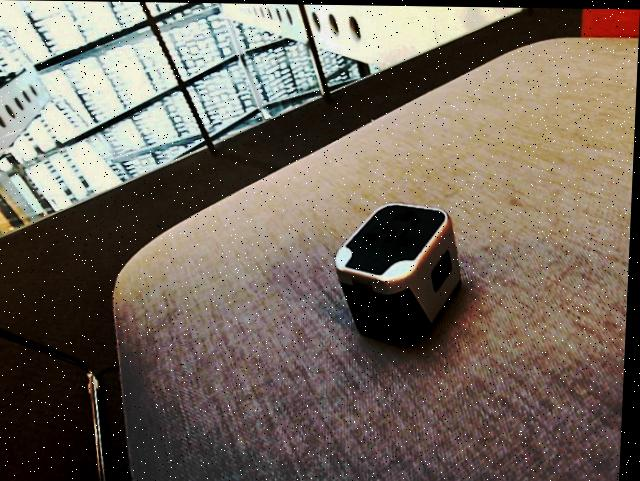adapter: (333, 200, 466, 346)
